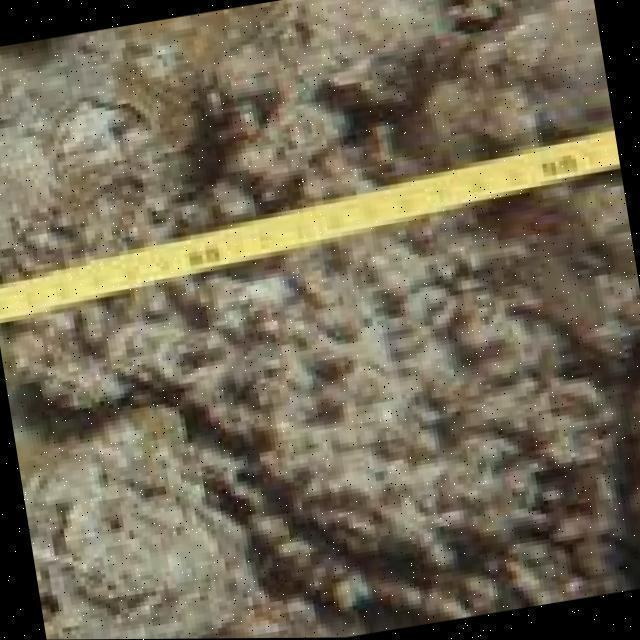Dead Coral: (229, 256, 621, 584)
